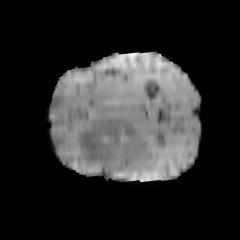glioma: (76, 117, 150, 173)
